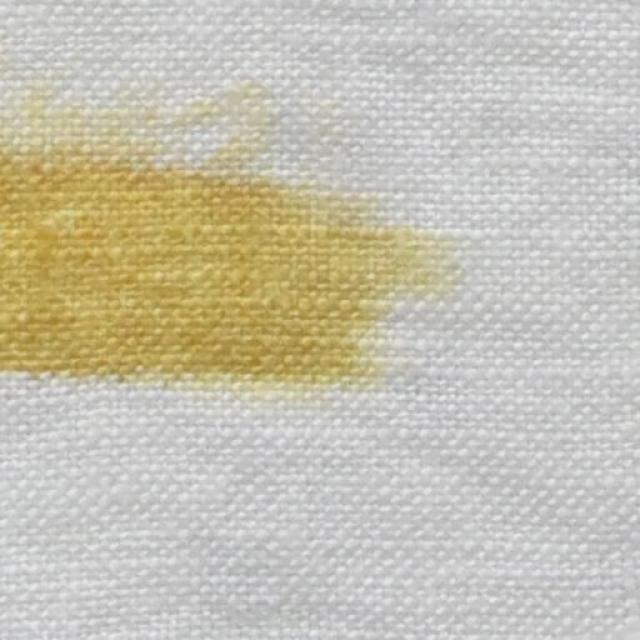Stain: (0, 154, 458, 383)
